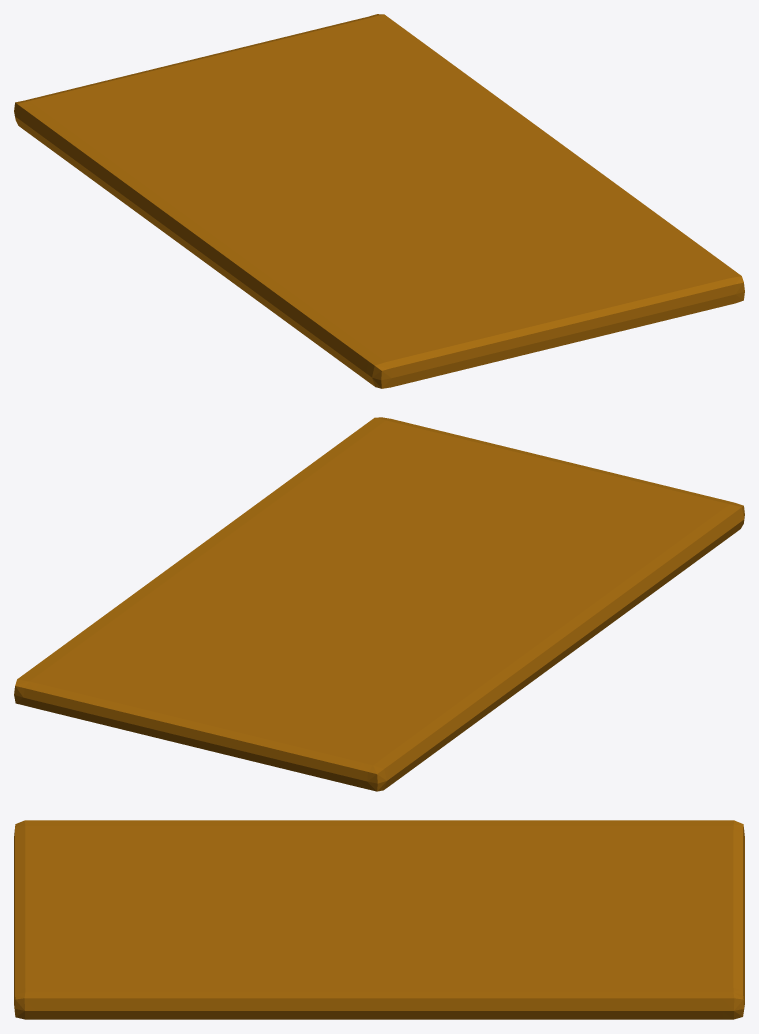
Rendered from drawer_plane_2.glb.
The picture shows the model from 3 angles, top to bottom: view 1: azimuth 30°, elevation 25°; view 2: azimuth 150°, elevation 25°; view 3: azimuth 270°, elevation 25°; orthographic projection.
Parts seen in each view (by area): view 1: Plane 2; view 2: Plane 2; view 3: Plane 2.
Part boxes in pixels (<box>): Plane 2: <box>14,14,744,388</box>; Plane 2: <box>14,417,744,791</box>; Plane 2: <box>14,820,744,1019</box>.
Size of the model in its own units: 13.53 by 0.8112 by 23.19.
